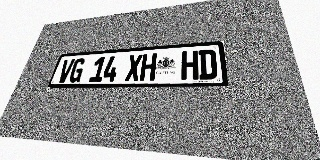1: (89, 57, 107, 82)
4: (102, 56, 120, 82)
D: (199, 49, 217, 80)
G: (68, 58, 86, 83)
H: (181, 50, 198, 80), (139, 53, 157, 81)
V: (56, 59, 75, 83)
X: (125, 54, 143, 81)
